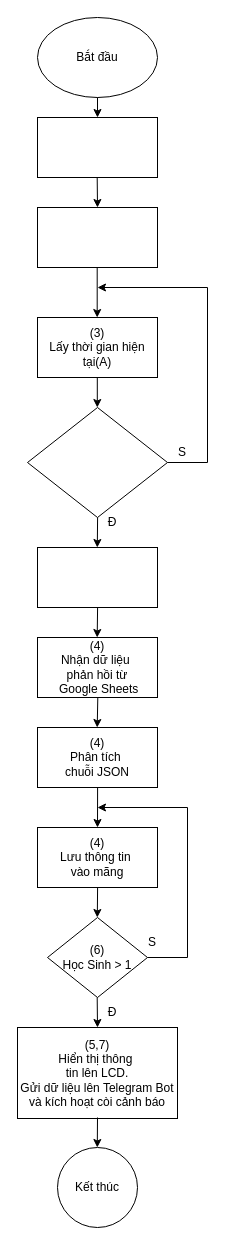
Image size: 233x1245. Some labels were removed from this diagram. Each missing label, with the box of its shape:
(1) Kết nối RTC DS3231 Và wifi: (36, 116, 158, 178)
(2) Đọc tín hiệu DS3231: (36, 206, 158, 268)
(3) 7h30<A<7h45 14h30<A<14h45 17h30<A<18h: (26, 406, 168, 518)
(4) Tạo URL và Gửi yêu cầu HTTP: (36, 546, 158, 608)
